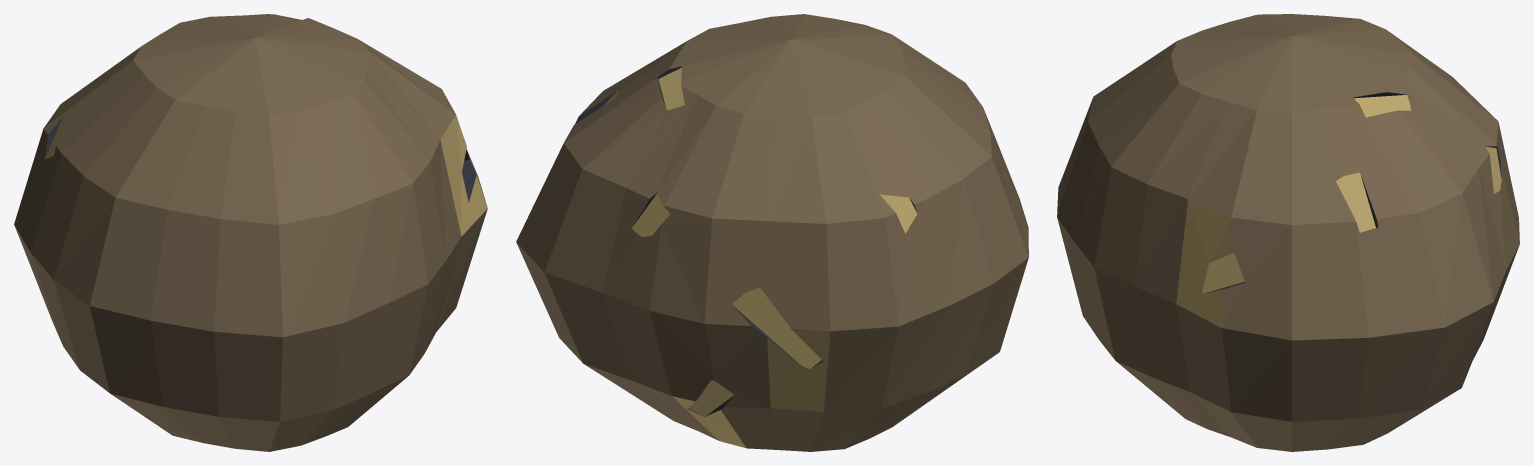
File: dung_ball_small.glb
3 renders of one model, left to right at view 1: azimuth 30°, elevation 25°; view 2: azimuth 150°, elevation 25°; view 3: azimuth 270°, elevation 25°, orthographic.
Visible parts, largest first — view 1: dung_ball_small; view 2: dung_ball_small; view 3: dung_ball_small.
Part boxes in pixels (box(x1,y1,x2,y2)): dung_ball_small: box(14, 14, 487, 451); dung_ball_small: box(516, 14, 1028, 451); dung_ball_small: box(1057, 14, 1519, 451).
Bounding box in the file's own units: 0.12 × 0.1032 × 0.1124.
